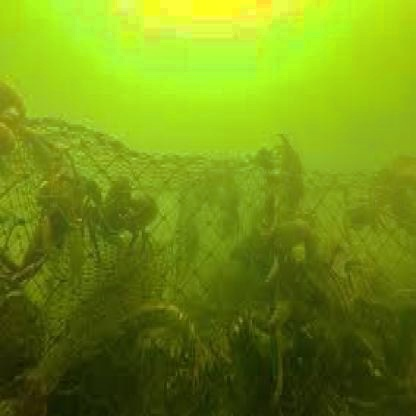net: (1, 124, 415, 416)
